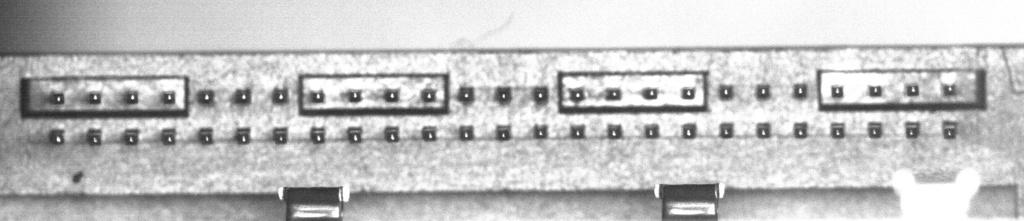pin_ok: (942, 120, 958, 139), (495, 86, 512, 103), (457, 85, 474, 102), (531, 86, 549, 102), (234, 87, 252, 103), (310, 126, 326, 143), (719, 121, 735, 138), (347, 126, 363, 143), (198, 127, 214, 144), (272, 126, 288, 143), (235, 126, 251, 143), (271, 87, 288, 103), (86, 128, 102, 145), (867, 121, 883, 138), (905, 120, 920, 138), (607, 123, 623, 139), (384, 126, 400, 142), (123, 129, 139, 145), (756, 122, 772, 138), (830, 122, 846, 138), (49, 128, 65, 144), (568, 87, 585, 102), (197, 89, 214, 104), (532, 124, 548, 139), (570, 123, 586, 138), (421, 126, 437, 141), (682, 123, 697, 139), (755, 84, 771, 99), (161, 128, 176, 144), (718, 84, 734, 99), (421, 88, 437, 103), (496, 125, 511, 140), (644, 123, 659, 138), (459, 125, 474, 140), (794, 121, 808, 137), (793, 83, 807, 99), (384, 88, 400, 102), (310, 89, 325, 103), (681, 86, 696, 100), (605, 87, 621, 100), (642, 87, 659, 99), (162, 90, 176, 104), (905, 83, 919, 97), (942, 82, 956, 96), (868, 84, 883, 97), (348, 89, 362, 102), (830, 85, 844, 98), (87, 91, 101, 104), (52, 91, 65, 104), (125, 91, 138, 103)
